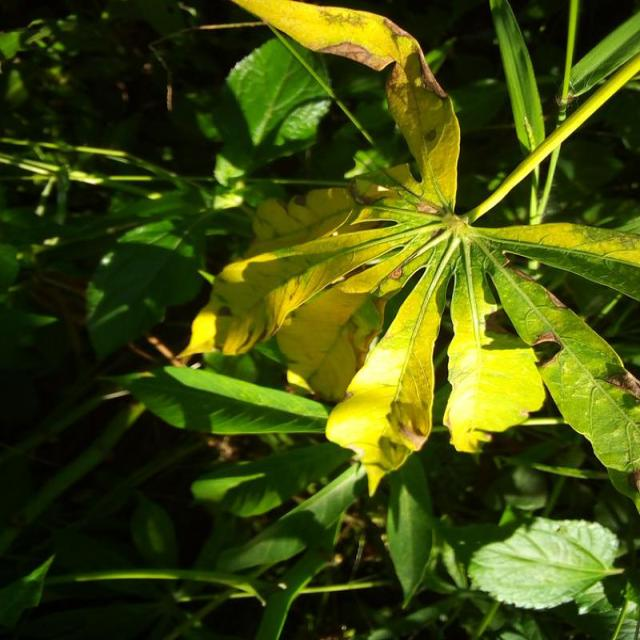cassava leaf: (176, 2, 638, 507), (466, 514, 624, 611)
